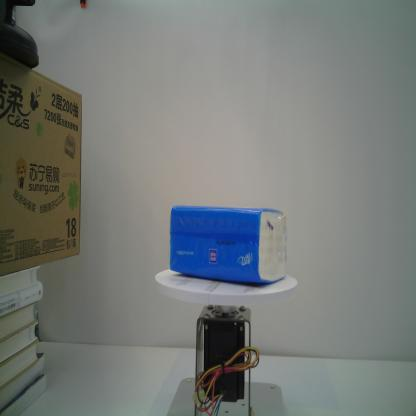Tissue: (168, 203, 289, 287)
